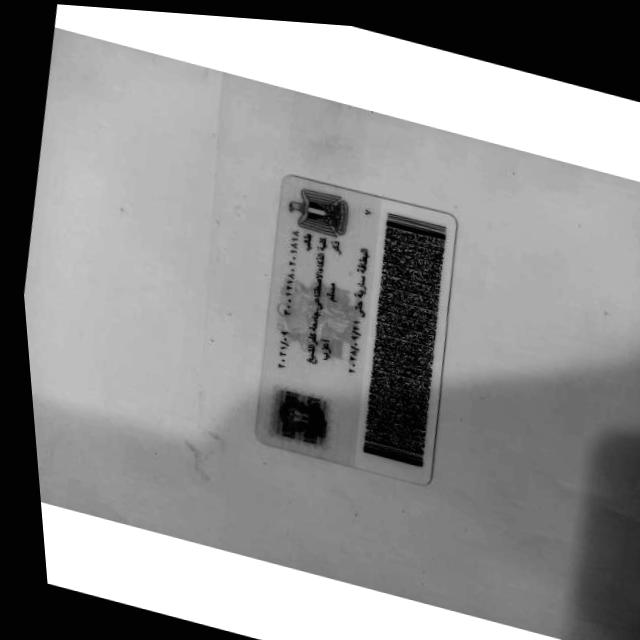back: (253, 176, 455, 483)
